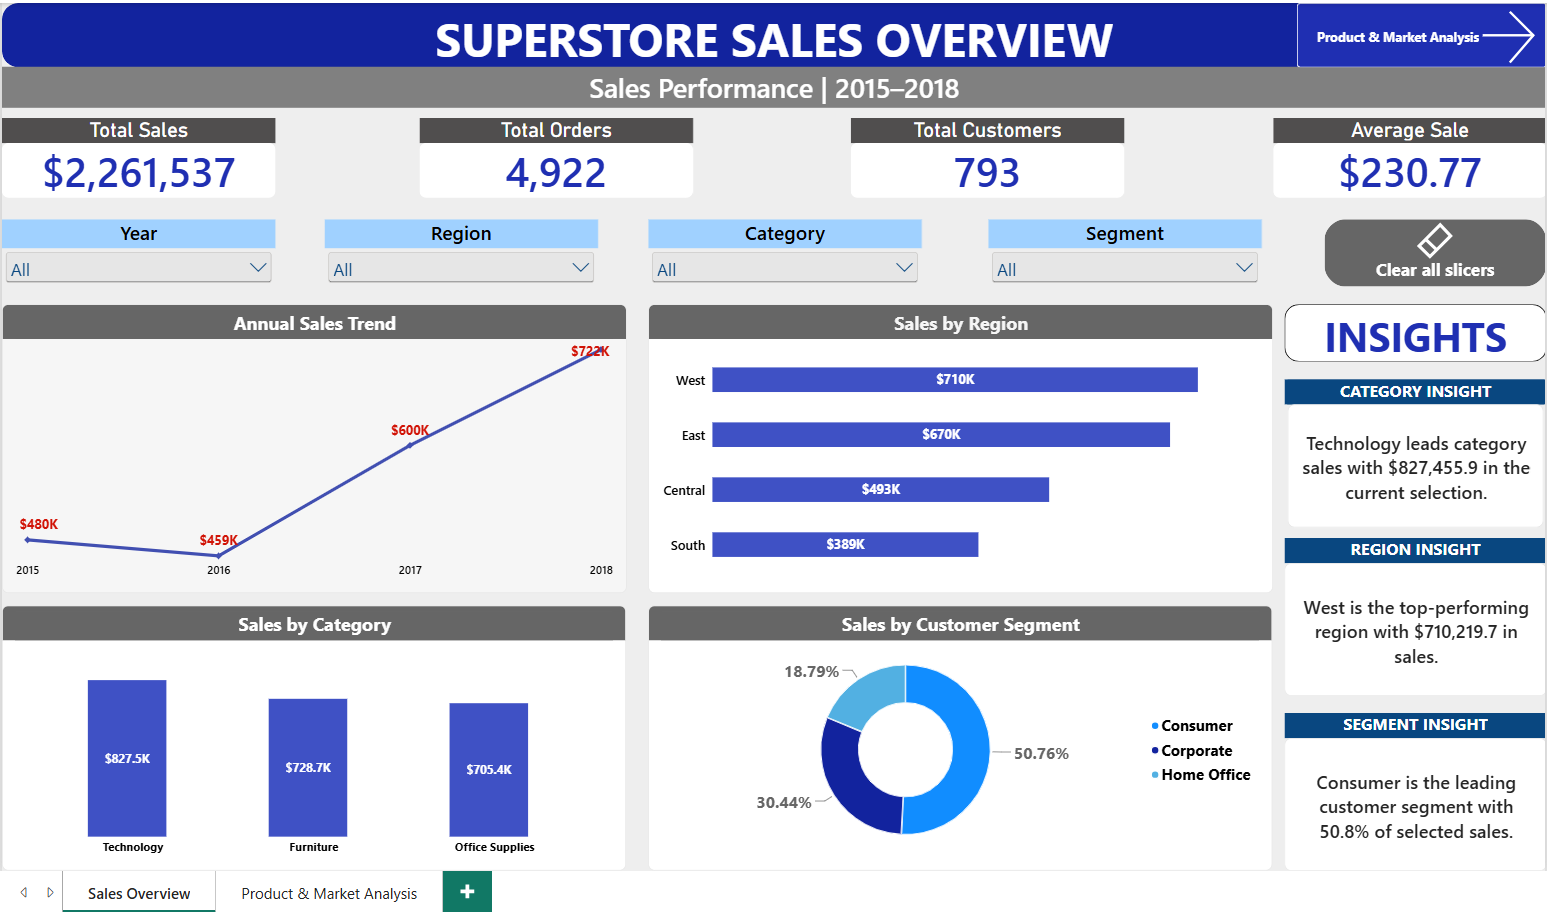

Layout of this report page (visuals, bound fields, positions):
{"tool":"powerbi","page":{"name":"Sales Overview","canvas":[1920,1080],"ordinal":0},"visuals":[{"type":"shape","box":[0,0,1920.8,80],"z":0},{"type":"shape","box":[0,80,1920.8,51],"z":1000},{"type":"cardVisual","title":"Total Sales","fields":{"Data":["Sales.Total Sales"]},"box":[0,143,340.1,99.4],"z":2000},{"type":"cardVisual","title":"Total Customers","fields":{"Data":["Sales.Total Customers"]},"box":[1055.2,143,340.1,99.4],"z":3000},{"type":"cardVisual","title":"Total Orders","fields":{"Data":["Sales.Total Orders"]},"box":[519.8,143,340.1,99.4],"z":4000},{"type":"cardVisual","title":"Average Sale","fields":{"Data":["Sales.Average Sale"]},"box":[1580.2,143,340.1,99.4],"z":5000},{"type":"slicer","title":"Year","fields":{"Values":["DateTable.Year"]},"box":[0,268.6,340.1,83.7],"z":6000},{"type":"slicer","title":"Segment","fields":{"Values":["Sales.Segment"]},"box":[1226.2,268.6,340.1,83.7],"z":7000},{"type":"slicer","title":"Category","fields":{"Values":["Sales.Category"]},"box":[804.1,268.6,340.1,83.7],"z":8000},{"type":"slicer","title":"Region","fields":{"Values":["Sales.Region"]},"box":[401.2,268.6,340.1,83.7],"z":9000},{"type":"lineChart","title":"Annual Sales Trend","fields":{"Category":["DateTable.Date.Variation.Date Hierarchy.Year"],"Y":["Sales.Total Sales"]},"box":[0,375,777,359.3],"z":10000},{"type":"clusteredBarChart","title":"Sales by Region","fields":{"Category":["Sales.Region"],"Y":["Sales.Total Sales"]},"box":[804.1,375,777,359.3],"z":11000},{"type":"clusteredColumnChart","title":"Sales by Category","fields":{"Category":["Sales.Category"],"Y":["Sales.Total Sales"]},"box":[0,750,776.2,329.7],"z":12000},{"type":"donutChart","title":"Sales by Customer Segment","fields":{"Category":["Sales.Segment"],"Y":["Sales.Total Sales"]},"box":[804.1,750,776.2,329.7],"z":13000},{"type":"shape","box":[1594.1,374.3,326.2,71.5],"z":14000},{"type":"cardVisual","title":"CATEGORY INSIGHT","fields":{"Data":["Sales.Category Insight"]},"box":[1594.2,467.4,326.2,185],"z":15000},{"type":"cardVisual","title":"SEGMENT INSIGHT","fields":{"Data":["Sales.Segment Insight"]},"box":[1594.2,882.6,326.2,197.1],"z":16000},{"type":"cardVisual","title":"REGION INSIGHT","fields":{"Data":["Sales.Region Insight"]},"box":[1594.2,664.5,326.2,197.1],"z":17000},{"type":"actionButton","box":[1644.8,268.6,275.6,83.7],"z":18000},{"type":"actionButton","box":[1609.9,0,310.5,80.2],"z":18001}]}

Visuals, with their boxes on the page's 1920x1080 design canvas (x1, y1, x2, y2). These are canvas units, not pixel positions in the 1547x912 screenshot, which may show the page scaled, cropped or inside an application window:
shape: {"x1": 0, "y1": 0, "x2": 1921, "y2": 80}
shape: {"x1": 0, "y1": 80, "x2": 1921, "y2": 131}
"Total Sales" cardVisual: {"x1": 0, "y1": 143, "x2": 340, "y2": 242}
"Total Customers" cardVisual: {"x1": 1055, "y1": 143, "x2": 1395, "y2": 242}
"Total Orders" cardVisual: {"x1": 520, "y1": 143, "x2": 860, "y2": 242}
"Average Sale" cardVisual: {"x1": 1580, "y1": 143, "x2": 1920, "y2": 242}
"Year" slicer: {"x1": 0, "y1": 269, "x2": 340, "y2": 352}
"Segment" slicer: {"x1": 1226, "y1": 269, "x2": 1566, "y2": 352}
"Category" slicer: {"x1": 804, "y1": 269, "x2": 1144, "y2": 352}
"Region" slicer: {"x1": 401, "y1": 269, "x2": 741, "y2": 352}
"Annual Sales Trend" lineChart: {"x1": 0, "y1": 375, "x2": 777, "y2": 734}
"Sales by Region" clusteredBarChart: {"x1": 804, "y1": 375, "x2": 1581, "y2": 734}
"Sales by Category" clusteredColumnChart: {"x1": 0, "y1": 750, "x2": 776, "y2": 1080}
"Sales by Customer Segment" donutChart: {"x1": 804, "y1": 750, "x2": 1580, "y2": 1080}
shape: {"x1": 1594, "y1": 374, "x2": 1920, "y2": 446}
"CATEGORY INSIGHT" cardVisual: {"x1": 1594, "y1": 467, "x2": 1920, "y2": 652}
"SEGMENT INSIGHT" cardVisual: {"x1": 1594, "y1": 883, "x2": 1920, "y2": 1080}
"REGION INSIGHT" cardVisual: {"x1": 1594, "y1": 664, "x2": 1920, "y2": 862}
actionButton: {"x1": 1645, "y1": 269, "x2": 1920, "y2": 352}
actionButton: {"x1": 1610, "y1": 0, "x2": 1920, "y2": 80}
